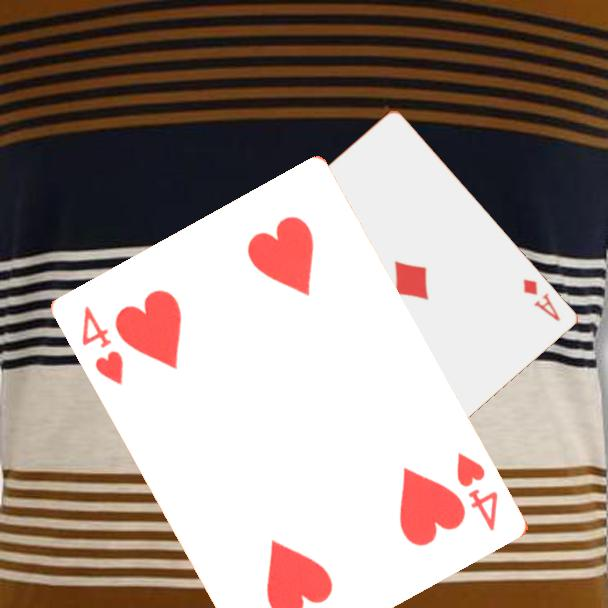d01: (519, 275, 563, 324)
h04: (78, 302, 128, 389), (453, 449, 502, 535)
